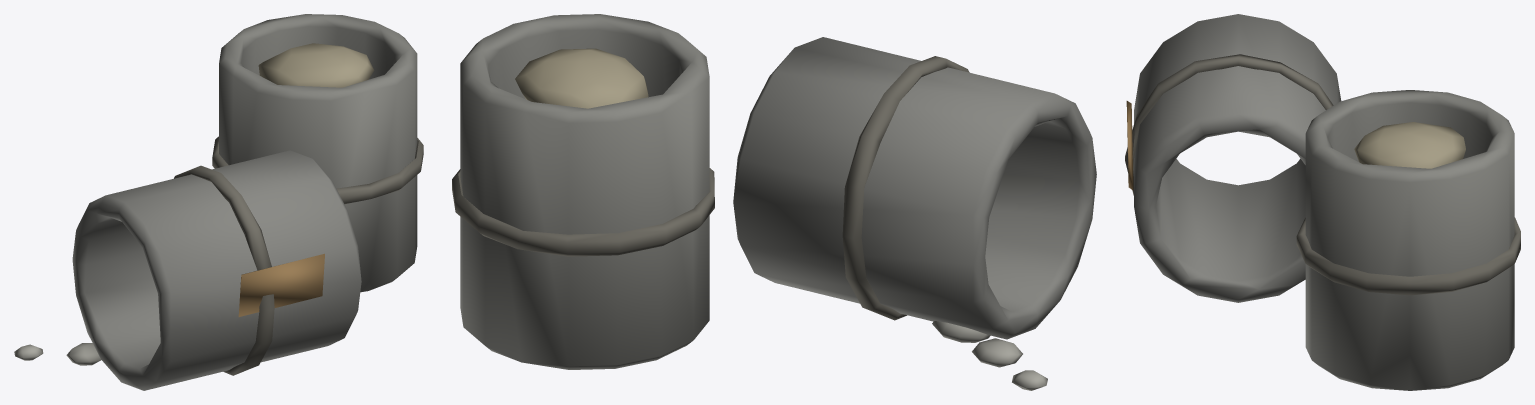
The model's file is culvert_pipe_b_lod1.glb.
3 views of the same model, side by side, from view 1: azimuth 30°, elevation 25°; view 2: azimuth 150°, elevation 25°; view 3: azimuth 270°, elevation 25° (orthographic). The views are drawn at different scales.
Visible parts, largest first — view 1: Surface.001; view 2: Surface.001; view 3: Surface.001.
Boxes of the visible parts, bbox=[...] form: Surface.001: bbox=[14, 14, 423, 390]; Surface.001: bbox=[452, 14, 1096, 390]; Surface.001: bbox=[1125, 14, 1520, 390].
Bounding box in the file's own units: 3.06 × 1.44 × 2.3.
